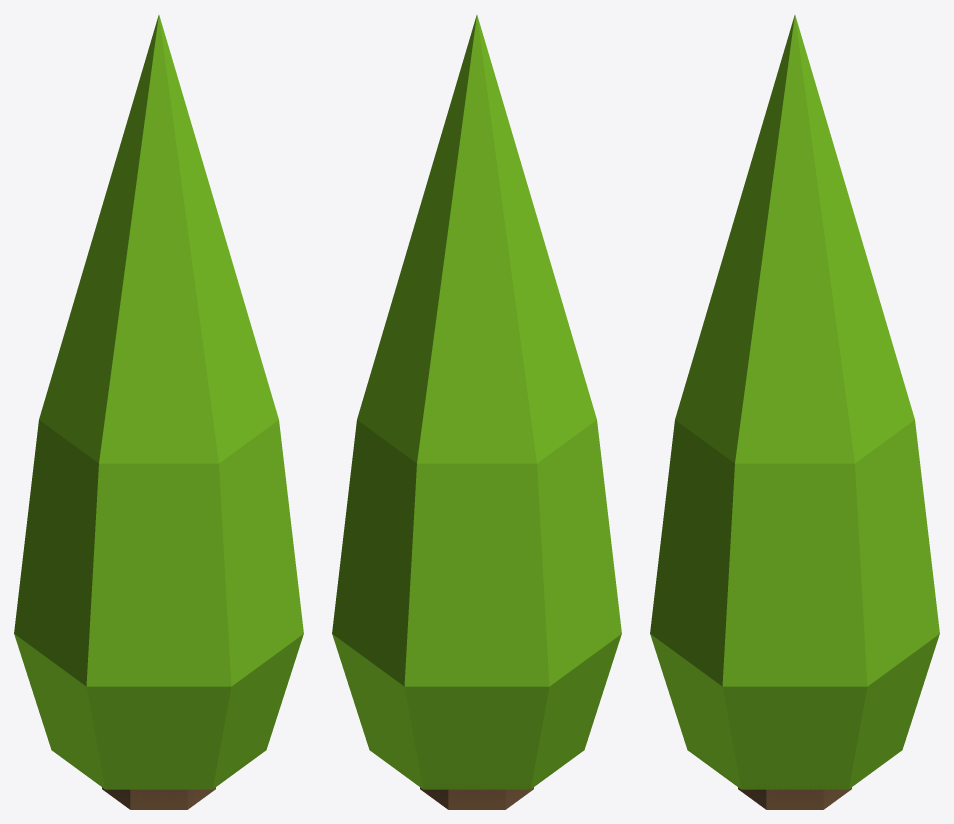
File: tree1.glb
3 views of the same model, side by side, from view 1: azimuth 30°, elevation 25°; view 2: azimuth 150°, elevation 25°; view 3: azimuth 270°, elevation 25° (orthographic).
Parts seen in each view (by area): view 1: Cone; view 2: Cone; view 3: Cone.
Part boxes in pixels (left/top/right/bottom): Cone: left=14, top=15, right=303, bottom=809; Cone: left=332, top=15, right=621, bottom=809; Cone: left=650, top=15, right=939, bottom=809.
Bounding box in the file's own units: 1.64 × 5.57 × 1.89.
Materials: 1 (1 with a texture image).
